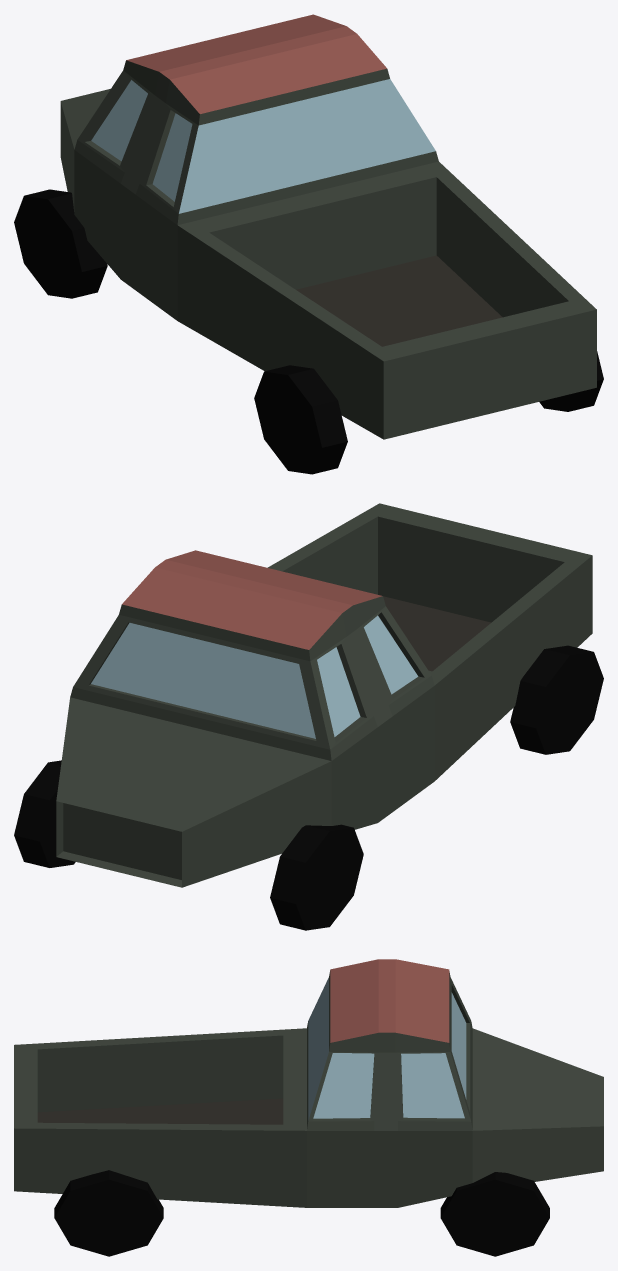
File: SM_Prop_Car03.fbx
3 views of the same model, one above another, from view 1: azimuth 30°, elevation 25°; view 2: azimuth 150°, elevation 25°; view 3: azimuth 270°, elevation 25° (orthographic). The views are drawn at different scales.
Visible parts, largest first — view 1: Cube, Cube.004; view 2: Cube, Cube.004; view 3: Cube, Cube.004.
Part boxes in pixels (bbox=[...]): Cube: bbox=[60, 14, 596, 439]; Cube.004: bbox=[14, 189, 603, 474]; Cube: bbox=[56, 503, 592, 887]; Cube.004: bbox=[14, 645, 603, 930]; Cube: bbox=[14, 959, 603, 1207]; Cube.004: bbox=[54, 1170, 549, 1256].
Bounding box in the file's own units: 1387 × 535 × 615.
